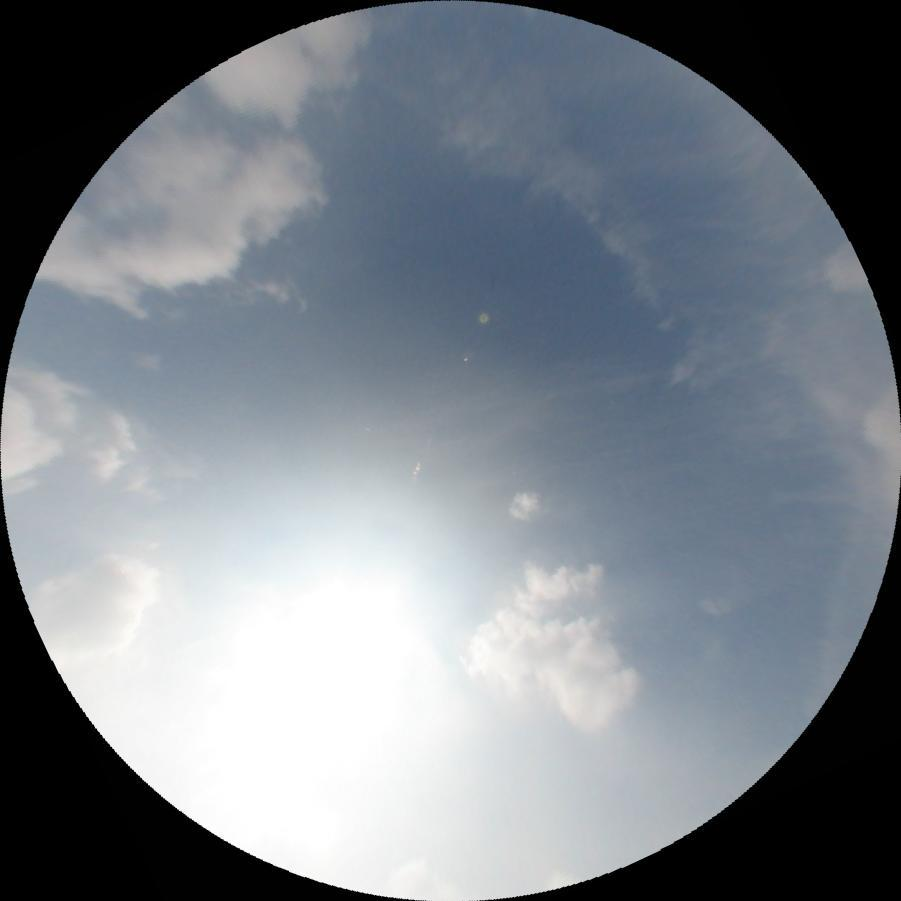sun: (241, 561, 451, 788)
